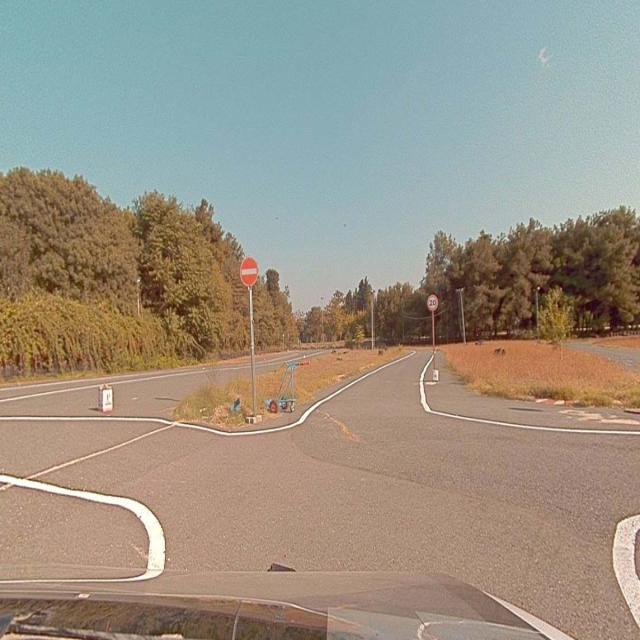20: (428, 296, 437, 309)
girisyok: (240, 258, 258, 285)
